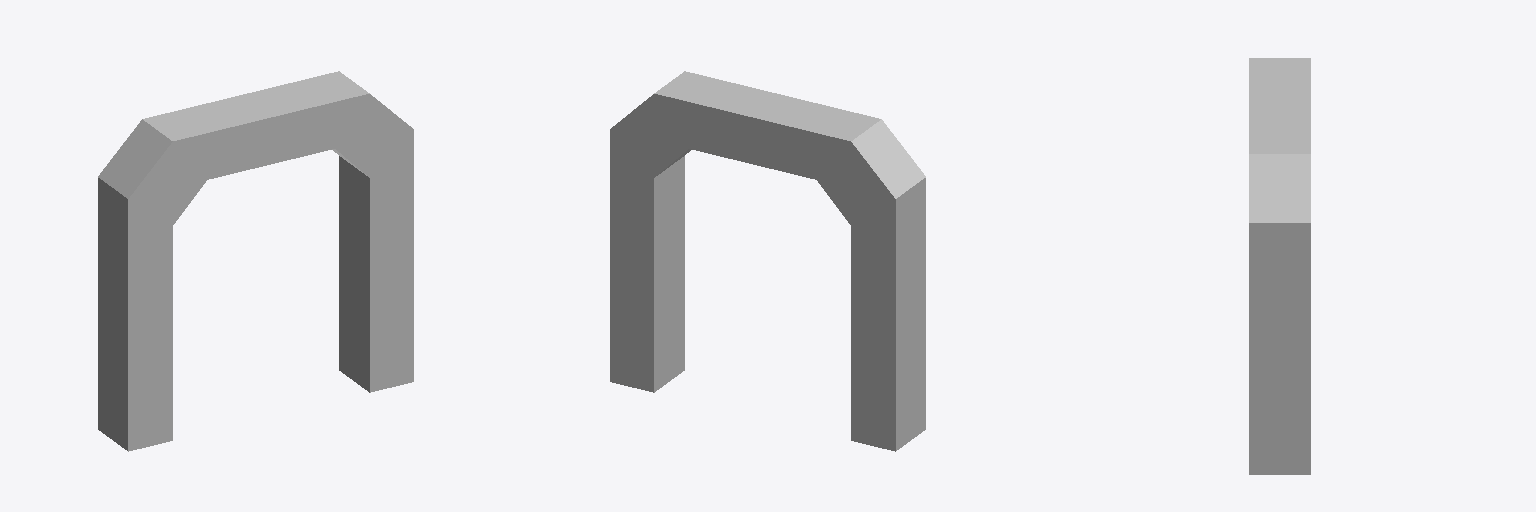
File: archway1.obj
3 renders of one model, left to right at view 1: azimuth 30°, elevation 25°; view 2: azimuth 150°, elevation 25°; view 3: azimuth 270°, elevation 25°, orthographic.
Parts seen in each view (by area): view 1: Cube_Cube.001; view 2: Cube_Cube.001; view 3: Cube_Cube.001.
Part boxes in pixels (bbox=[...]): Cube_Cube.001: bbox=[98, 71, 413, 451]; Cube_Cube.001: bbox=[610, 71, 925, 451]; Cube_Cube.001: bbox=[1249, 58, 1310, 474].
Bounding box in the file's own units: 9.49 × 9.49 × 1.76.